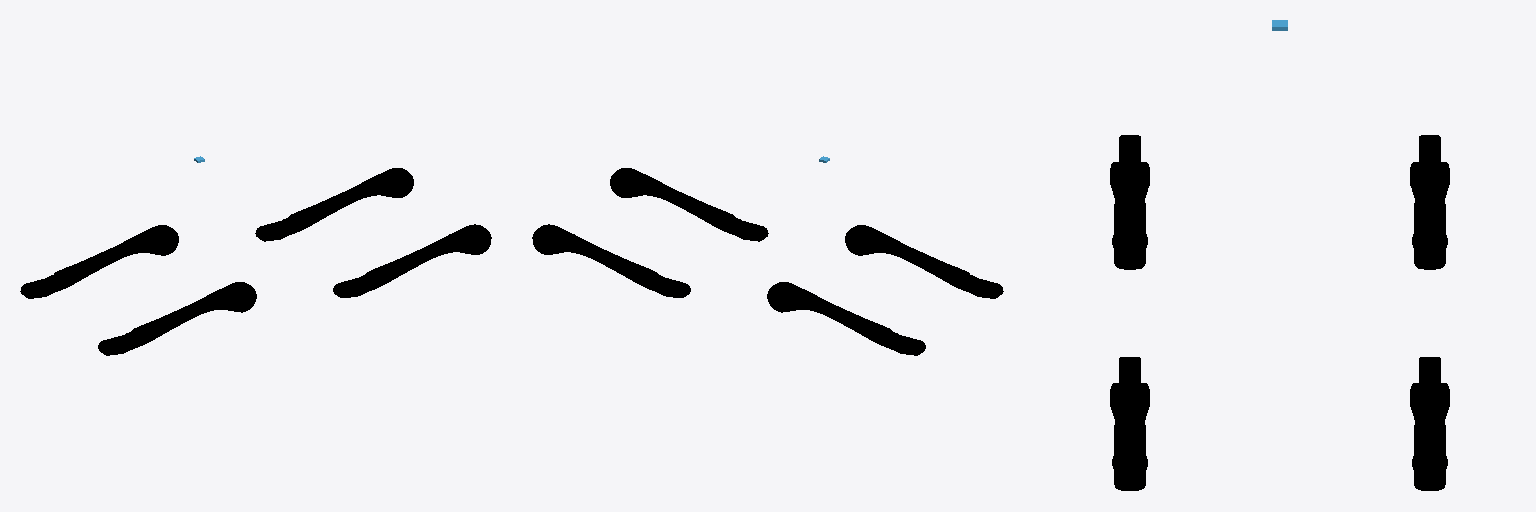
--- Render facts (derived) ---
3 views of the same robot in one strip: view 1: azimuth 30°, elevation 25°; view 2: azimuth 150°, elevation 25°; view 3: azimuth 270°, elevation 25° (orthographic).
Model robot with 18 links and 17 joints (12 revolute, 5 fixed), rooted at base, posed all joints at 0 but 4 set to mid-range because 0 is outside their limits (RF_KFE = -1.71, LF_KFE = -1.71, RH_KFE = -1.71, LH_KFE = -1.71).
Visible links, largest first — view 1: LH_calf, RH_calf, LF_calf, RF_calf; view 2: RH_calf, LH_calf, RF_calf, LF_calf; view 3: RH_calf, LH_calf, RF_calf, LF_calf.
Link boxes in pixels (left/top/right/bottom): LH_calf: left=20, top=225, right=178, bottom=298; RH_calf: left=98, top=282, right=256, bottom=355; LF_calf: left=255, top=168, right=413, bottom=241; RF_calf: left=333, top=224, right=491, bottom=297; RH_calf: left=845, top=225, right=1003, bottom=298; LH_calf: left=767, top=282, right=925, bottom=355; RF_calf: left=610, top=168, right=768, bottom=241; LF_calf: left=532, top=224, right=690, bottom=297; RH_calf: left=1110, top=135, right=1149, bottom=269; LH_calf: left=1410, top=135, right=1449, bottom=269; RF_calf: left=1110, top=357, right=1149, bottom=490; LF_calf: left=1410, top=357, right=1449, bottom=490.
Size in the robot's own frame: 0.7965 by 0.3126 by 0.267 metres.
4 mesh visuals loaded from 5 distinct referenced files (1 binary STL); not drawn: 9 (reference not matched to a file when rendering).

robot.urdf — robot:
<?xml version="1.0" ?>
<!-- =================================================================================== -->
<!-- |    This document was autogenerated by xacro from ./robot.xacro                  | -->
<!-- |    EDITING THIS FILE BY HAND IS NOT RECOMMENDED                                 | -->
<!-- =================================================================================== -->
<robot name="robot">
  <material name="black">
    <color rgba="0.0 0.0 0.0 1.0"/>
  </material>
  <material name="blue">
    <color rgba="0.0 0.0 0.8 1.0"/>
  </material>
  <material name="green">
    <color rgba="0.0 0.8 0.0 1.0"/>
  </material>
  <material name="grey">
    <color rgba="0.2 0.2 0.2 1.0"/>
  </material>
  <material name="silver">
    <color rgba="0.9137254901960784 0.9137254901960784 0.8470588235294118 1.0"/>
  </material>
  <material name="orange">
    <color rgba="1.0 0.4235294117647059 0.0392156862745098 1.0"/>
  </material>
  <material name="brown">
    <color rgba="0.8705882352941177 0.8117647058823529 0.7647058823529411 1.0"/>
  </material>
  <material name="red">
    <color rgba="0.8 0.0 0.0 1.0"/>
  </material>
  <material name="white">
    <color rgba="1.0 1.0 1.0 1.0"/>
  </material>
  <!-- ros_control plugin -->
  <gazebo>
    <plugin filename="liblegged_hw_sim.so" name="gazebo_ros_control">
      <robotNamespace>/</robotNamespace>
      <robotParam>legged_robot_description</robotParam>
      <robotSimType>legged_gazebo/LeggedHWSim</robotSimType>
    </plugin>
  </gazebo>
  <gazebo>
    <plugin filename="libgazebo_ros_p3d.so" name="p3d_base_controller">
      <alwaysOn>true</alwaysOn>
      <updateRate>1000.0</updateRate>
      <bodyName>base</bodyName>
      <topicName>ground_truth/state</topicName>
      <gaussianNoise>0</gaussianNoise>
      <frameName>world</frameName>
      <xyzOffsets>0 0 0</xyzOffsets>
      <rpyOffsets>0 0 0</rpyOffsets>
    </plugin>
  </gazebo>
  <gazebo reference="base_link">
    <maxVel>100.</maxVel>
    <kp>10000.</kp>
    <kd>0.</kd>
  </gazebo>
  <gazebo reference="stick_link">
    <mu1>0.2</mu1>
    <mu2>0.2</mu2>
    <material>Gazebo/White</material>
  </gazebo>
  <!-- LF leg -->
  <gazebo reference="LF_hip">
    <mu1>0.2</mu1>
    <mu2>0.2</mu2>
    <material>Gazebo/DarkGrey</material>
  </gazebo>
  <gazebo reference="LF_thigh">
    <mu1>0.2</mu1>
    <mu2>0.2</mu2>
    <self_collide>0</self_collide>
    <material>Gazebo/DarkGrey</material>
    <kp value="1000000.0"/>
    <kd value="1.0"/>
  </gazebo>
  <gazebo reference="LF_calf">
    <mu1>0.2</mu1>
    <mu2>0.2</mu2>
    <self_collide>1</self_collide>
  </gazebo>
  <gazebo reference="LF_FOOT">
    <mu1>0.6</mu1>
    <mu2>0.6</mu2>
    <self_collide>1</self_collide>
    <material>Gazebo/DarkGrey</material>
    <kp value="1000000.0"/>
    <kd value="1.0"/>
  </gazebo>
  <!-- RF leg -->
  <gazebo reference="RF_hip">
    <mu1>0.2</mu1>
    <mu2>0.2</mu2>
    <material>Gazebo/DarkGrey</material>
  </gazebo>
  <gazebo reference="RF_thigh">
    <mu1>0.2</mu1>
    <mu2>0.2</mu2>
    <self_collide>0</self_collide>
    <material>Gazebo/DarkGrey</material>
    <kp value="1000000.0"/>
    <kd value="1.0"/>
  </gazebo>
  <gazebo reference="RF_calf">
    <mu1>0.2</mu1>
    <mu2>0.2</mu2>
    <self_collide>1</self_collide>
  </gazebo>
  <gazebo reference="RF_FOOT">
    <mu1>0.6</mu1>
    <mu2>0.6</mu2>
    <self_collide>1</self_collide>
    <material>Gazebo/DarkGrey</material>
    <kp value="1000000.0"/>
    <kd value="1.0"/>
  </gazebo>
  <!-- LH leg -->
  <gazebo reference="LH_hip">
    <mu1>0.2</mu1>
    <mu2>0.2</mu2>
    <material>Gazebo/DarkGrey</material>
  </gazebo>
  <gazebo reference="LH_thigh">
    <mu1>0.2</mu1>
    <mu2>0.2</mu2>
    <self_collide>0</self_collide>
    <material>Gazebo/DarkGrey</material>
    <kp value="1000000.0"/>
    <kd value="1.0"/>
  </gazebo>
  <gazebo reference="LH_calf">
    <mu1>0.2</mu1>
    <mu2>0.2</mu2>
    <self_collide>1</self_collide>
  </gazebo>
  <gazebo reference="LH_FOOT">
    <mu1>0.6</mu1>
    <mu2>0.6</mu2>
    <self_collide>1</self_collide>
    <material>Gazebo/DarkGrey</material>
    <kp value="1000000.0"/>
    <kd value="1.0"/>
  </gazebo>
  <!-- RH leg -->
  <gazebo reference="RH_hip">
    <mu1>0.2</mu1>
    <mu2>0.2</mu2>
    <material>Gazebo/DarkGrey</material>
  </gazebo>
  <gazebo reference="RH_thigh">
    <mu1>0.2</mu1>
    <mu2>0.2</mu2>
    <self_collide>0</self_collide>
    <material>Gazebo/DarkGrey</material>
    <kp value="1000000.0"/>
    <kd value="1.0"/>
  </gazebo>
  <gazebo reference="RH_calf">
    <mu1>0.2</mu1>
    <mu2>0.2</mu2>
    <self_collide>1</self_collide>
  </gazebo>
  <gazebo reference="RH_FOOT">
    <mu1>0.6</mu1>
    <mu2>0.6</mu2>
    <self_collide>1</self_collide>
    <material>Gazebo/DarkGrey</material>
    <kp value="1000000.0"/>
    <kd value="1.0"/>
  </gazebo>
  <link name="base">
    <visual>
      <origin rpy="0 0 0" xyz="0 0 0"/>
      <geometry>
        <mesh filename="package://qm_description/meshes/quadruped/aliengo/trunk.dae" scale="1 1 1"/>
      </geometry>
    </visual>
    <collision>
      <origin rpy="0 0 0" xyz="0 0 0"/>
      <geometry>
        <box size="0.647 0.15 0.112"/>
      </geometry>
    </collision>
    <inertial>
      <origin rpy="0 0 0" xyz="0.008465 0.004045 -0.000763"/>
      <mass value="11.041"/>
      <inertia ixx="0.050874" ixy="-0.000451628" ixz="0.000487603" iyy="0.64036" iyz="4.8356e-05" izz="0.65655"/>
    </inertial>
  </link>
  <!-- Imu is fixed to the base link -->
  <joint name="unitree_imu_joint" type="fixed">
    <origin rpy="0. 0. 0." xyz="0. 0. 0."/>
    <parent link="base"/>
    <child link="unitree_imu"/>
  </joint>
  <!-- Imu link -->
  <link name="unitree_imu">
    <inertial>
      <mass value="0.01"/>
      <origin rpy="0 0 0" xyz="0 0 0"/>
      <inertia ixx="0.000001" ixy="0" ixz="0" iyy="0.000001" iyz="0" izz="0.000001"/>
    </inertial>
    <visual>
      <origin rpy="0 0 0" xyz="0 0 0"/>
      <geometry>
        <box size="0.015 0.015 0.004"/>
      </geometry>
    </visual>
    <material name="black">
      <color rgba="255 108 10 255"/>
    </material>
  </link>
  <gazebo reference="unitree_imu">
    <material>Gazebo/Orange</material>
  </gazebo>
  <gazebo reference="unitree_imu_joint">
    <disableFixedJointLumping>true</disableFixedJointLumping>
  </gazebo>
  <joint name="RF_HAA" type="revolute">
    <origin rpy="0 0 0" xyz="0.2407 -0.051 0"/>
    <parent link="base"/>
    <child link="RF_hip"/>
    <axis xyz="1 0 0"/>
    <dynamics damping="0.05" friction="0.01"/>
    <limit effort="35.278" lower="-1.2217304763960306" upper="1.2217304763960306" velocity="20"/>
  </joint>
  <link name="RF_hip">
    <visual>
      <origin rpy="3.141592653589793 0 0" xyz="0 0 0"/>
      <geometry>
        <mesh filename="package://qm_description/meshes/quadruped/aliengo/hip.dae" scale="1 1 1"/>
      </geometry>
      <material name="black"/>
    </visual>
    <collision>
      <origin rpy="1.5707963267948966 0 0" xyz="0 0 0"/>
      <geometry>
        <cylinder length="0.0418" radius="0.046"/>
      </geometry>
    </collision>
    <inertial>
      <origin rpy="0 0 0" xyz="-0.022191 -0.015144 -1.5e-05"/>
      <mass value="1.993"/>
      <inertia ixx="0.002903894" ixy="7.185e-05" ixz="-1.262e-06" iyy="0.004907517" iyz="1.75e-06" izz="0.005586944"/>
    </inertial>
  </link>
  <joint name="RF_HFE" type="revolute">
    <origin rpy="0 0 0" xyz="0 -0.0868 0"/>
    <parent link="RF_hip"/>
    <child link="RF_thigh"/>
    <axis xyz="0 1 0"/>
    <dynamics damping="0.05" friction="0.01"/>
    <limit effort="35.278" lower="-1e+22" upper="1e+22" velocity="20"/>
  </joint>
  <link name="RF_thigh">
    <visual>
      <origin rpy="0 0 0" xyz="0 0 0"/>
      <geometry>
        <mesh filename="package://qm_description/meshes/quadruped/aliengo/thigh_mirror.dae" scale="1 1 1"/>
      </geometry>
      <material name="black"/>
    </visual>
    <collision>
      <origin rpy="0 1.6707963267948966 0" xyz="0.0 0 -0.125"/>
      <geometry>
        <box size="0.25 0.0374 0.043"/>
      </geometry>
    </collision>
    <collision>
      <origin rpy="1.5707963267948966 0 0" xyz="0 -0.0 0"/>
      <geometry>
        <cylinder length="0.03" radius="0.044"/>
      </geometry>
    </collision>
    <inertial>
      <origin rpy="0 0 0" xyz="-0.005607 0.003877 -0.048199"/>
      <mass value="0.639"/>
      <inertia ixx="0.005666803" ixy="-3.597e-06" ixz="0.000491446" iyy="0.005847229" iyz="-1.0086e-05" izz="0.000369811"/>
    </inertial>
  </link>
  <joint name="RF_KFE" type="revolute">
    <origin rpy="0 0 0" xyz="0 0 -0.25"/>
    <parent link="RF_thigh"/>
    <child link="RF_calf"/>
    <axis xyz="0 1 0"/>
    <dynamics damping="0.05" friction="0.01"/>
    <limit effort="44.4" lower="-2.775073510670984" upper="-0.6457718232379019" velocity="15.89"/>
  </joint>
  <link name="RF_calf">
    <visual>
      <origin rpy="0 0 0" xyz="0 0 0"/>
      <geometry>
        <mesh filename="package://qm_description/meshes/quadruped/aliengo/calf_corrected.stl" scale="1 1 1"/>
      </geometry>
      <material name="black"/>
    </visual>
    <collision>
      <origin rpy="0 1.5707963267948966 0" xyz="0 0 -0.125"/>
      <geometry>
        <box size="0.25 0.0208 0.016"/>
      </geometry>
    </collision>
    <inertial>
      <origin rpy="0 0 0" xyz="0.002781 6.3e-05 -0.142518"/>
      <mass value="0.207"/>
      <inertia ixx="0.006341369" ixy="-3e-09" ixz="-8.7951e-05" iyy="0.006355157" iyz="-1.336e-06" izz="3.9188e-05"/>
    </inertial>
  </link>
  <joint name="RF_foot_fixed" type="fixed">
    <origin rpy="0 0 0" xyz="0 0 -0.25"/>
    <parent link="RF_calf"/>
    <child link="RF_FOOT"/>
  </joint>
  <link name="RF_FOOT">
    <visual>
      <origin rpy="0 0 0" xyz="0 0 0"/>
      <geometry>
        <sphere radius="0.0165"/>
      </geometry>
      <material name="black"/>
    </visual>
    <collision>
      <origin rpy="0 0 0" xyz="0 0 0"/>
      <geometry>
        <sphere radius="0.0265"/>
      </geometry>
    </collision>
    <inertial>
      <mass value="0.06"/>
      <inertia ixx="1.6853999999999998e-05" ixy="0.0" ixz="0.0" iyy="1.6853999999999998e-05" iyz="0.0" izz="1.6853999999999998e-05"/>
    </inertial>
  </link>
  <gazebo reference="RF_foot_fixed">
    <disableFixedJointLumping>true</disableFixedJointLumping>
  </gazebo>
  <transmission name="RF_HAA_tran">
    <type>transmission_interface/SimpleTransmission</type>
    <joint name="RF_HAA">
      <hardwareInterface>hardware_interface/EffortJointInterface</hardwareInterface>
    </joint>
    <actuator name="RF_HAA_motor">
      <hardwareInterface>hardware_interface/EffortJointInterface</hardwareInterface>
      <mechanicalReduction>1</mechanicalReduction>
    </actuator>
  </transmission>
  <transmission name="RF_HFE_tran">
    <type>transmission_interface/SimpleTransmission</type>
    <joint name="RF_HFE">
      <hardwareInterface>hardware_interface/EffortJointInterface</hardwareInterface>
    </joint>
    <actuator name="RF_HFE_motor">
      <hardwareInterface>hardware_interface/EffortJointInterface</hardwareInterface>
      <mechanicalReduction>1</mechanicalReduction>
    </actuator>
  </transmission>
  <transmission name="RF_KFE_tran">
    <type>transmission_interface/SimpleTransmission</type>
    <joint name="RF_KFE">
      <hardwareInterface>hardware_interface/EffortJointInterface</hardwareInterface>
    </joint>
    <actuator name="RF_KFE_motor">
      <hardwareInterface>hardware_interface/EffortJointInterface</hardwareInterface>
      <mechanicalReduction>1</mechanicalReduction>
    </actuator>
  </transmission>
  <joint name="LF_HAA" type="revolute">
    <origin rpy="0 0 0" xyz="0.2407 0.051 0"/>
    <parent link="base"/>
    <child link="LF_hip"/>
    <axis xyz="1 0 0"/>
    <dynamics damping="0.05" friction="0.01"/>
    <limit effort="35.278" lower="-1.2217304763960306" upper="1.2217304763960306" velocity="20"/>
  </joint>
  <link name="LF_hip">
    <visual>
      <origin rpy="0 0 0" xyz="0 0 0"/>
      <geometry>
        <mesh filename="package://qm_description/meshes/quadruped/aliengo/hip.dae" scale="1 1 1"/>
      </geometry>
      <material name="black"/>
    </visual>
    <collision>
      <origin rpy="1.5707963267948966 0 0" xyz="0 0 0"/>
      <geometry>
        <cylinder length="0.0418" radius="0.046"/>
      </geometry>
    </collision>
    <inertial>
      <origin rpy="0 0 0" xyz="-0.022191 0.015144 -1.5e-05"/>
      <mass value="1.993"/>
      <inertia ixx="0.002903894" ixy="-7.185e-05" ixz="-1.262e-06" iyy="0.004907517" iyz="-1.75e-06" izz="0.005586944"/>
    </inertial>
  </link>
  <joint name="LF_HFE" type="revolute">
    <origin rpy="0 0 0" xyz="0 0.0868 0"/>
    <parent link="LF_hip"/>
    <child link="LF_thigh"/>
    <axis xyz="0 1 0"/>
    <dynamics damping="0.05" friction="0.01"/>
    <limit effort="35.278" lower="-1e+22" upper="1e+22" velocity="20"/>
  </joint>
  <link name="LF_thigh">
    <visual>
      <origin rpy="0 0 0" xyz="0 0 0"/>
      <geometry>
        <mesh filename="package://qm_description/meshes/quadruped/aliengo/thigh.dae" scale="1 1 1"/>
      </geometry>
      <material name="black"/>
    </visual>
    <collision>
      <origin rpy="0 1.6707963267948966 0" xyz="0.0 0 -0.125"/>
      <geometry>
        <box size="0.25 0.0374 0.043"/>
      </geometry>
    </collision>
    <collision>
      <origin rpy="1.5707963267948966 0 0" xyz="0 0.0 0"/>
      <geometry>
        <cylinder length="0.03" radius="0.044"/>
      </geometry>
    </collision>
    <inertial>
      <origin rpy="0 0 0" xyz="-0.005607 -0.003877 -0.048199"/>
      <mass value="0.639"/>
      <inertia ixx="0.005666803" ixy="3.597e-06" ixz="0.000491446" iyy="0.005847229" iyz="1.0086e-05" izz="0.000369811"/>
    </inertial>
  </link>
  <joint name="LF_KFE" type="revolute">
    <origin rpy="0 0 0" xyz="0 0 -0.25"/>
    <parent link="LF_thigh"/>
    <child link="LF_calf"/>
    <axis xyz="0 1 0"/>
    <dynamics damping="0.05" friction="0.01"/>
    <limit effort="44.4" lower="-2.775073510670984" upper="-0.6457718232379019" velocity="15.89"/>
  </joint>
  <link name="LF_calf">
    <visual>
      <origin rpy="0 0 0" xyz="0 0 0"/>
      <geometry>
        <mesh filename="package://qm_description/meshes/quadruped/aliengo/calf_corrected.stl" scale="1 1 1"/>
      </geometry>
      <material name="black"/>
    </visual>
    <collision>
      <origin rpy="0 1.5707963267948966 0" xyz="0 0 -0.125"/>
      <geometry>
        <box size="0.25 0.0208 0.016"/>
      </geometry>
    </collision>
    <inertial>
      <origin rpy="0 0 0" xyz="0.002781 6.3e-05 -0.142518"/>
      <mass value="0.207"/>
      <inertia ixx="0.006341369" ixy="-3e-09" ixz="-8.7951e-05" iyy="0.006355157" iyz="-1.336e-06" izz="3.9188e-05"/>
    </inertial>
  </link>
  <joint name="LF_foot_fixed" type="fixed">
    <origin rpy="0 0 0" xyz="0 0 -0.25"/>
    <parent link="LF_calf"/>
    <child link="LF_FOOT"/>
  </joint>
  <link name="LF_FOOT">
    <visual>
      <origin rpy="0 0 0" xyz="0 0 0"/>
      <geometry>
        <sphere radius="0.0165"/>
      </geometry>
      <material name="black"/>
    </visual>
    <collision>
      <origin rpy="0 0 0" xyz="0 0 0"/>
      <geometry>
        <sphere radius="0.0265"/>
      </geometry>
    </collision>
    <inertial>
      <mass value="0.06"/>
      <inertia ixx="1.6853999999999998e-05" ixy="0.0" ixz="0.0" iyy="1.6853999999999998e-05" iyz="0.0" izz="1.6853999999999998e-05"/>
    </inertial>
  </link>
  <gazebo reference="LF_foot_fixed">
    <disableFixedJointLumping>true</disableFixedJointLumping>
  </gazebo>
  <transmission name="LF_HAA_tran">
    <type>transmission_interface/SimpleTransmission</type>
    <joint name="LF_HAA">
      <hardwareInterface>hardware_interface/EffortJointInterface</hardwareInterface>
    </joint>
    <actuator name="LF_HAA_motor">
      <hardwareInterface>hardware_interface/EffortJointInterface</hardwareInterface>
      <mechanicalReduction>1</mechanicalReduction>
    </actuator>
  </transmission>
  <transmission name="LF_HFE_tran">
    <type>transmission_interface/SimpleTransmission</type>
    <joint name="LF_HFE">
      <hardwareInterface>hardware_interface/EffortJointInterface</hardwareInterface>
    </joint>
    <actuator name="LF_HFE_motor">
      <hardwareInterface>hardware_interface/EffortJointInterface</hardwareInterface>
      <mechanicalReduction>1</mechanicalReduction>
    </actuator>
  </transmission>
  <transmission name="LF_KFE_tran">
    <type>transmission_interface/SimpleTransmission</type>
    <joint name="LF_KFE">
      <hardwareInterface>hardware_interface/EffortJointInterface</hardwareInterface>
    </joint>
    <actuator name="LF_KFE_motor">
      <hardwareInterface>hardware_interface/EffortJointInterface</hardwareInterface>
      <mechanicalReduction>1</mechanicalReduction>
    </actuator>
  </transmission>
  <joint name="RH_HAA" type="revolute">
    <origin rpy="0 0 0" xyz="-0.2407 -0.051 0"/>
    <parent link="base"/>
    <child link="RH_hip"/>
    <axis xyz="1 0 0"/>
    <dynamics damping="0.05" friction="0.01"/>
    <limit effort="35.278" lower="-1.2217304763960306" upper="1.2217304763960306" velocity="20"/>
  </joint>
  <link name="RH_hip">
    <visual>
      <origin rpy="3.141592653589793 3.141592653589793 0" xyz="0 0 0"/>
      <geometry>
        <mesh filename="package://qm_description/meshes/quadruped/aliengo/hip.dae" scale="1 1 1"/>
      </geometry>
      <material name="black"/>
    </visual>
    <collision>
      <origin rpy="1.5707963267948966 0 0" xyz="0 0 0"/>
      <geometry>
        <cylinder length="0.0418" radius="0.046"/>
      </geometry>
    </collision>
    <inertial>
      <origin rpy="0 0 0" xyz="0.022191 -0.015144 -1.5e-05"/>
      <mass value="1.993"/>
      <inertia ixx="0.002903894" ixy="-7.185e-05" ixz="1.262e-06" iyy="0.004907517" iyz="1.75e-06" izz="0.005586944"/>
    </inertial>
  </link>
  <joint name="RH_HFE" type="revolute">
    <origin rpy="0 0 0" xyz="0 -0.0868 0"/>
    <parent link="RH_hip"/>
    <child link="RH_thigh"/>
    <axis xyz="0 1 0"/>
    <dynamics damping="0.05" friction="0.01"/>
    <limit effort="35.278" lower="-1e+22" upper="1e+22" velocity="20"/>
  </joint>
  <link name="RH_thigh">
    <visual>
      <origin rpy="0 0 0" xyz="0 0 0"/>
      <geometry>
        <mesh filename="package://qm_description/meshes/quadruped/aliengo/thigh_mirror.dae" scale="1 1 1"/>
      </geometry>
      <material name="black"/>
    </visual>
    <collision>
      <origin rpy="0 1.6707963267948966 0" xyz="0.0 0 -0.125"/>
      <geometry>
        <box size="0.25 0.0374 0.043"/>
      </geometry>
    </collision>
    <collision>
      <origin rpy="1.5707963267948966 0 0" xyz="0 -0.0 0"/>
      <geometry>
        <cylinder length="0.03" radius="0.044"/>
      </geometry>
    </collision>
    <inertial>
      <origin rpy="0 0 0" xyz="-0.005607 0.003877 -0.048199"/>
      <mass value="0.639"/>
      <inertia ixx="0.005666803" ixy="-3.597e-06" ixz="0.000491446" iyy="0.005847229" iyz="-1.0086e-05" izz="0.000369811"/>
    </inertial>
  </link>
  <joint name="RH_KFE" type="revolute">
    <origin rpy="0 0 0" xyz="0 0 -0.25"/>
    <parent link="RH_thigh"/>
    <child link="RH_calf"/>
    <axis xyz="0 1 0"/>
    <dynamics damping="0.05" friction="0.01"/>
    <limit effort="44.4" lower="-2.775073510670984" upper="-0.6457718232379019" velocity="15.89"/>
  </joint>
  <link name="RH_calf">
    <visual>
      <origin rpy="0 0 0" xyz="0 0 0"/>
      <geometry>
        <mesh filename="package://qm_description/meshes/quadruped/aliengo/calf_corrected.stl" scale="1 1 1"/>
      </geometry>
      <material name="black"/>
    </visual>
    <collision>
      <origin rpy="0 1.5707963267948966 0" xyz="0 0 -0.125"/>
      <geometry>
        <box size="0.25 0.0208 0.016"/>
      </geometry>
    </collision>
    <inertial>
      <origin rpy="0 0 0" xyz="0.002781 6.3e-05 -0.142518"/>
      <mass value="0.207"/>
      <inertia ixx="0.006341369" ixy="-3e-09" ixz="-8.7951e-05" iyy="0.006355157" iyz="-1.336e-06" izz="3.9188e-05"/>
    </inertial>
  </link>
  <joint name="RH_foot_fixed" type="fixed">
    <origin rpy="0 0 0" xyz="0 0 -0.25"/>
    <parent link="RH_calf"/>
    <child link="RH_FOOT"/>
  </joint>
  <link name="RH_FOOT">
    <visual>
      <origin rpy="0 0 0" xyz="0 0 0"/>
      <geometry>
        <sphere radius="0.0165"/>
      </geometry>
      <material name="black"/>
    </visual>
    <collision>
      <origin rpy="0 0 0" xyz="0 0 0"/>
      <geometry>
        <sphere radius="0.0265"/>
      </geometry>
    </collision>
    <inertial>
      <mass value="0.06"/>
      <inertia ixx="1.6853999999999998e-05" ixy="0.0" ixz="0.0" iyy="1.6853999999999998e-05" iyz="0.0" izz="1.6853999999999998e-05"/>
    </inertial>
  </link>
  <gazebo reference="RH_foot_fixed">
    <disableFixedJointLumping>true</disableFixedJointLumping>
  </gazebo>
  <transmission name="RH_HAA_tran">
    <type>transmission_interface/SimpleTransmission</type>
    <joint name="RH_HAA">
      <hardwareInterface>hardware_interface/EffortJointInterface</hardwareInterface>
    </joint>
    <actuator name="RH_HAA_motor">
      <hardwareInterface>hardware_interface/EffortJointInterface</hardwareInterface>
      <mechanicalReduction>1</mechanicalReduction>
    </actuator>
  </transmission>
  <transmission name="RH_HFE_tran">
    <type>transmission_interface/SimpleTransmission</type>
    <joint name="RH_HFE">
      <hardwareInterface>hardware_interface/EffortJointInterface</hardwareInterface>
    </joint>
    <actuator name="RH_HFE_motor">
      <hardwareInterface>hardware_interface/EffortJointInterface</hardwareInterface>
      <mechanicalReduction>1</mechanicalReduction>
    </actuator>
  </transmission>
  <transmission name="RH_KFE_tran">
    <type>transmission_interface/SimpleTransmission</type>
    <joint name="RH_KFE">
      <hardwareInterface>hardware_interface/EffortJointInterface</hardwareInterface>
    </joint>
    <actuator name="RH_KFE_motor">
      <hardwareInterface>hardware_interface/EffortJointInterface</hardwareInterface>
      <mechanicalReduction>1</mechanicalReduction>
    </actuator>
  </transmission>
  <joint name="LH_HAA" type="revolute">
    <origin rpy="0 0 0" xyz="-0.2407 0.051 0"/>
    <parent link="base"/>
    <child link="LH_hip"/>
    <axis xyz="1 0 0"/>
    <dynamics damping="0.05" friction="0.01"/>
    <limit effort="35.278" lower="-1.2217304763960306" upper="1.2217304763960306" velocity="20"/>
  </joint>
  <link name="LH_hip">
    <visual>
      <origin rpy="0 3.141592653589793 0" xyz="0 0 0"/>
      <geometry>
        <mesh filename="package://qm_description/meshes/quadruped/aliengo/hip.dae" scale="1 1 1"/>
      </geometry>
      <material name="black"/>
    </visual>
    <collision>
      <origin rpy="1.5707963267948966 0 0" xyz="0 0 0"/>
      <geometry>
        <cylinder length="0.0418" radius="0.046"/>
      </geometry>
    </collision>
    <inertial>
      <origin rpy="0 0 0" xyz="0.022191 0.015144 -1.5e-05"/>
      <mass value="1.993"/>
      <inertia ixx="0.002903894" ixy="7.185e-05" ixz="1.262e-06" iyy="0.004907517" iyz="-1.75e-06" izz="0.005586944"/>
    </inertial>
  </link>
  <joint name="LH_HFE" type="revolute">
    <origin rpy="0 0 0" xyz="0 0.0868 0"/>
    <parent link="LH_hip"/>
    <child link="LH_thigh"/>
    <axis xyz="0 1 0"/>
    <dynamics damping="0.05" friction="0.01"/>
    <limit effort="35.278" lower="-1e+22" upper="1e+22" velocity="20"/>
  </joint>
  <link name="LH_thigh">
    <visual>
      <origin rpy="0 0 0" xyz="0 0 0"/>
      <geometry>
        <mesh filename="package://qm_description/meshes/quadruped/aliengo/thigh.dae" scale="1 1 1"/>
      </geometry>
      <material name="black"/>
    </visual>
    <collision>
      <origin rpy="0 1.6707963267948966 0" xyz="0.0 0 -0.125"/>
      <geometry>
        <box size="0.25 0.0374 0.043"/>
      </geometry>
    </collision>
    <collision>
      <origin rpy="1.5707963267948966 0 0" xyz="0 0.0 0"/>
      <geometry>
        <cylinder length="0.03" radius="0.044"/>
      </geometry>
    </collision>
    <inertial>
      <origin rpy="0 0 0" xyz="-0.005607 -0.003877 -0.048199"/>
      <mass value="0.639"/>
      <inertia ixx="0.005666803" ixy="3.597e-06" ixz="0.000491446" iyy="0.005847229" iyz="1.0086e-05" izz="0.000369811"/>
    </inertial>
  </link>
  <joint name="LH_KFE" type="revolute">
    <origin rpy="0 0 0" xyz="0 0 -0.25"/>
    <parent link="LH_thigh"/>
    <child link="LH_calf"/>
    <axis xyz="0 1 0"/>
    <dynamics damping="0.05" friction="0.01"/>
    <limit effort="44.4" lower="-2.775073510670984" upper="-0.6457718232379019" velocity="15.89"/>
  </joint>
  <link name="LH_calf">
    <visual>
      <origin rpy="0 0 0" xyz="0 0 0"/>
      <geometry>
        <mesh filename="package://qm_description/meshes/quadruped/aliengo/calf_corrected.stl" scale="1 1 1"/>
      </geometry>
      <material name="black"/>
    </visual>
    <collision>
      <origin rpy="0 1.5707963267948966 0" xyz="0 0 -0.125"/>
      <geometry>
        <box size="0.25 0.0208 0.016"/>
      </geometry>
    </collision>
    <inertial>
      <origin rpy="0 0 0" xyz="0.002781 6.3e-05 -0.142518"/>
      <mass value="0.207"/>
      <inertia ixx="0.006341369" ixy="-3e-09" ixz="-8.7951e-05" iyy="0.006355157" iyz="-1.336e-06" izz="3.9188e-05"/>
    </inertial>
  </link>
  <joint name="LH_foot_fixed" type="fixed">
    <origin rpy="0 0 0" xyz="0 0 -0.25"/>
    <parent link="LH_calf"/>
    <child link="LH_FOOT"/>
  </joint>
  <link name="LH_FOOT">
    <visual>
      <origin rpy="0 0 0" xyz="0 0 0"/>
      <geometry>
        <sphere radius="0.0165"/>
      </geometry>
      <material name="black"/>
    </visual>
    <collision>
      <origin rpy="0 0 0" xyz="0 0 0"/>
      <geometry>
        <sphere radius="0.0265"/>
      </geometry>
    </collision>
    <inertial>
      <mass value="0.06"/>
      <inertia ixx="1.6853999999999998e-05" ixy="0.0" ixz="0.0" iyy="1.6853999999999998e-05" iyz="0.0" izz="1.6853999999999998e-05"/>
    </inertial>
  </link>
  <gazebo reference="LH_foot_fixed">
    <disableFixedJointLumping>true</disableFixedJointLumping>
  </gazebo>
  <transmission name="LH_HAA_tran">
    <type>transmission_interface/SimpleTransmission</type>
    <joint name="LH_HAA">
      <hardwareInterface>hardware_interface/EffortJointInterface</hardwareInterface>
    </joint>
    <actuator name="LH_HAA_motor">
      <hardwareInterface>hardware_interface/EffortJointInterface</hardwareInterface>
      <mechanicalReduction>1</mechanicalReduction>
    </actuator>
  </transmission>
  <transmission name="LH_HFE_tran">
    <type>transmission_interface/SimpleTransmission</type>
    <joint name="LH_HFE">
      <hardwareInterface>hardware_interface/EffortJointInterface</hardwareInterface>
    </joint>
    <actuator name="LH_HFE_motor">
      <hardwareInterface>hardware_interface/EffortJointInterface</hardwareInterface>
      <mechanicalReduction>1</mechanicalReduction>
    </actuator>
  </transmission>
  <transmission name="LH_KFE_tran">
    <type>transmission_interface/SimpleTransmission</type>
    <joint name="LH_KFE">
      <hardwareInterface>hardware_interface/EffortJointInterface</hardwareInterface>
    </joint>
    <actuator name="LH_KFE_motor">
      <hardwareInterface>hardware_interface/EffortJointInterface</hardwareInterface>
      <mechanicalReduction>1</mechanicalReduction>
    </actuator>
  </transmission>
</robot>
